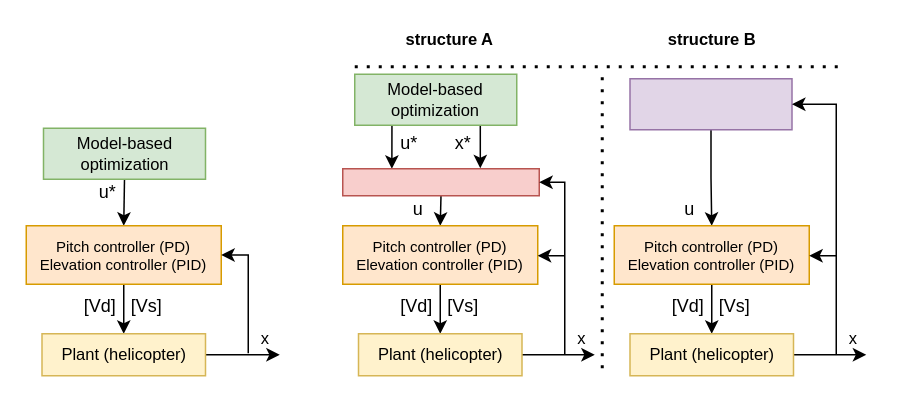
Image size: 905x402. Some labels were removed from this diagram. Here are the shapes that lost their labels. From the top down, the centre of each, then its label:
At [710,103]: "MPC".
At [440,181]: "LQR".
